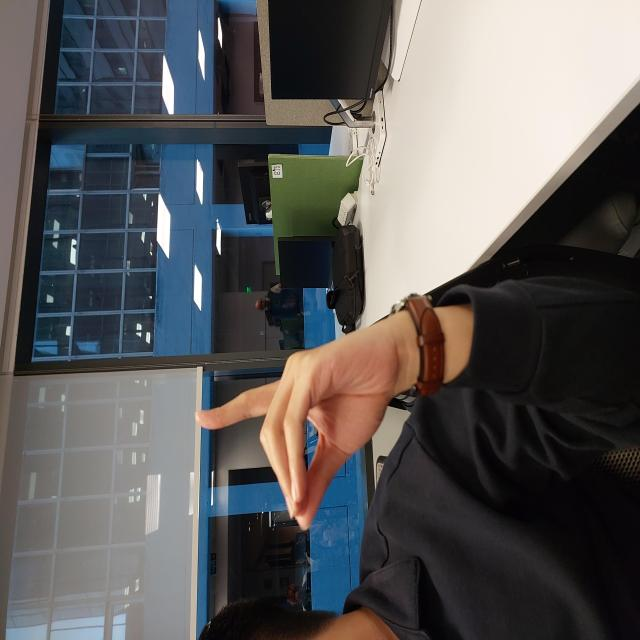D: (111, 196, 313, 394)
